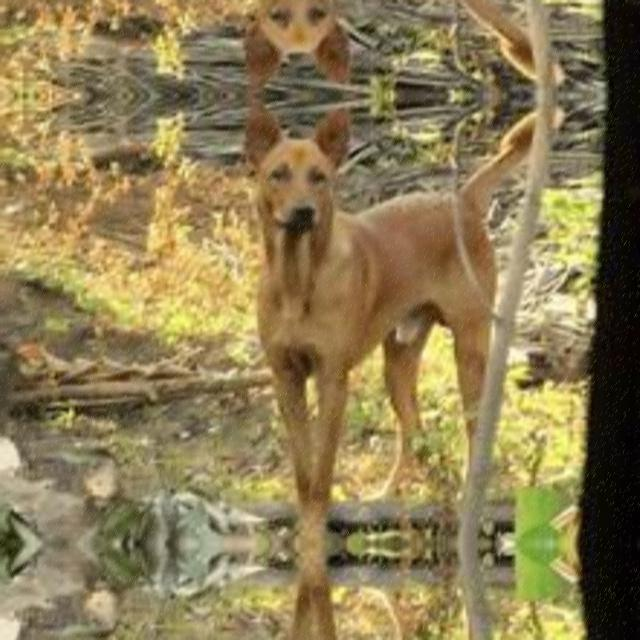dog: (217, 102, 556, 532), (217, 0, 556, 87), (217, 556, 556, 640)
